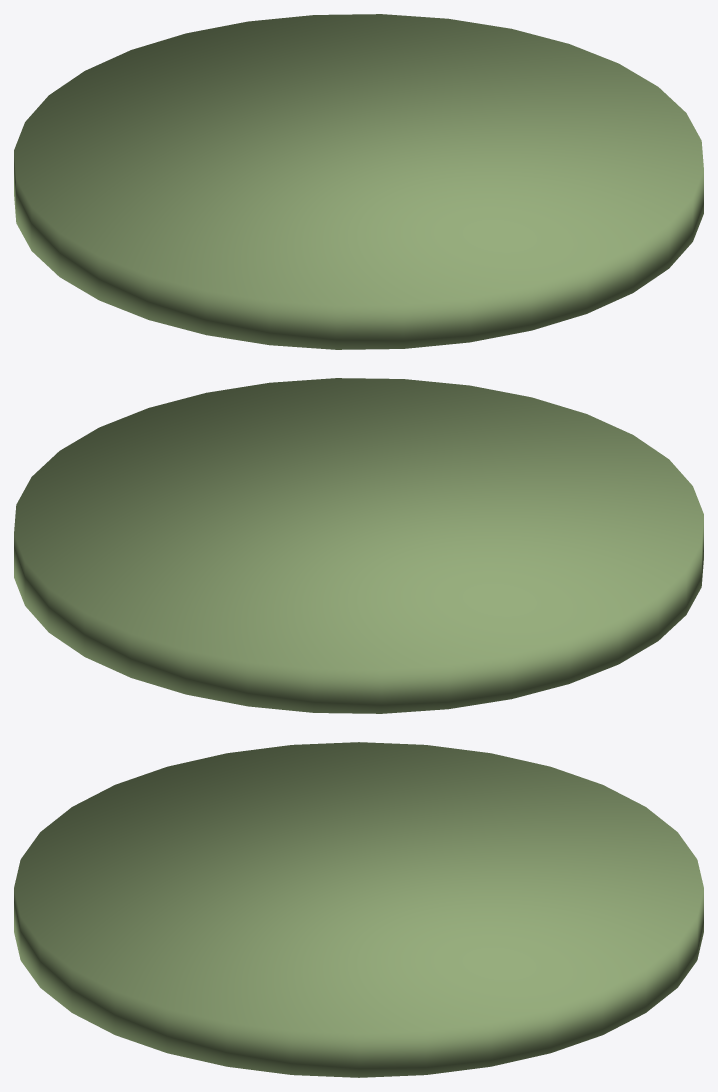
Rendered from equipment_upgrade_pad.glb.
3 views of the same model, one above another, from view 1: azimuth 30°, elevation 25°; view 2: azimuth 150°, elevation 25°; view 3: azimuth 270°, elevation 25° (orthographic).
Visible parts, largest first — view 1: Pad; view 2: Pad; view 3: Pad.
Part boxes in pixels (x1,y1,x2,y2): Pad: [14, 14, 703, 349]; Pad: [14, 378, 703, 713]; Pad: [14, 742, 703, 1077].
Bounding box in the file's own units: 1.7 × 0.1199 × 1.7.
